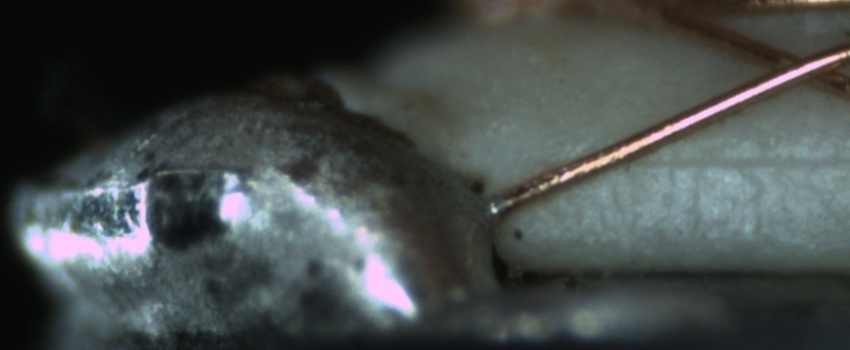CL: (747, 37, 845, 93)
DL: (612, 126, 842, 192)
TS: (488, 194, 508, 216)
